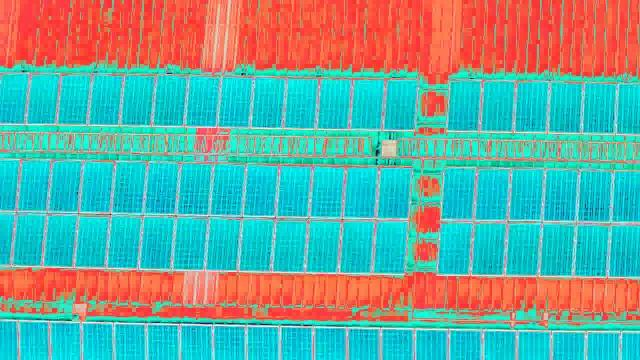dirty: (280, 75, 316, 128), (318, 78, 354, 131), (350, 76, 386, 129), (382, 76, 418, 129), (445, 80, 481, 133), (480, 76, 516, 129), (512, 78, 548, 131), (546, 81, 582, 134), (582, 80, 618, 133), (578, 169, 614, 222), (540, 169, 576, 222), (508, 169, 544, 222), (476, 167, 512, 220), (442, 165, 478, 218), (375, 166, 411, 219), (342, 165, 378, 218), (308, 166, 344, 219), (277, 166, 313, 219), (239, 164, 275, 217), (211, 162, 247, 215), (175, 160, 211, 213), (140, 160, 176, 213), (110, 160, 146, 213), (80, 158, 116, 211), (45, 156, 81, 209), (12, 157, 48, 210), (8, 210, 44, 263), (44, 213, 80, 266), (77, 214, 113, 267), (103, 216, 139, 269), (143, 214, 179, 267), (173, 215, 209, 268), (202, 217, 238, 270), (234, 217, 270, 270), (273, 219, 309, 272), (305, 222, 341, 275), (334, 223, 370, 276), (374, 220, 410, 273), (435, 219, 471, 272), (471, 220, 507, 273), (504, 224, 540, 277), (533, 223, 569, 276), (571, 221, 607, 274), (61, 73, 90, 124), (91, 73, 120, 124), (123, 73, 152, 124), (157, 74, 186, 125), (191, 74, 220, 125), (223, 75, 252, 126), (253, 77, 282, 128), (1, 72, 26, 124), (31, 71, 56, 123)
